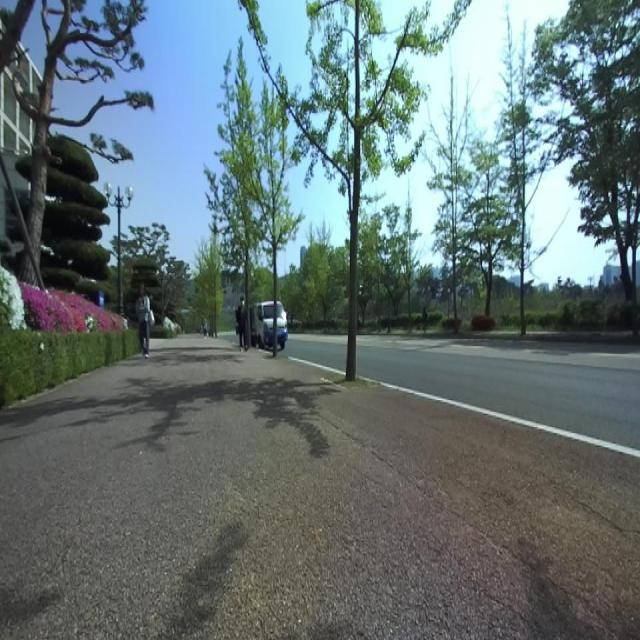sidewalk: (0, 338, 640, 638)
